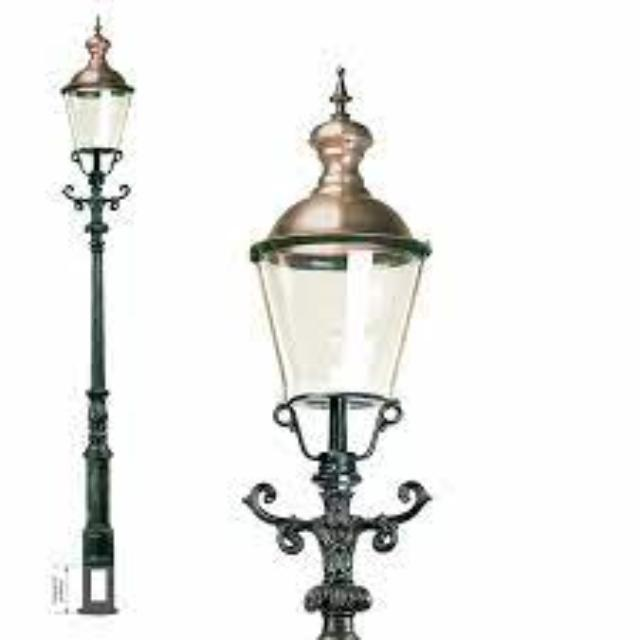Street-Lamp: (48, 4, 142, 622)
